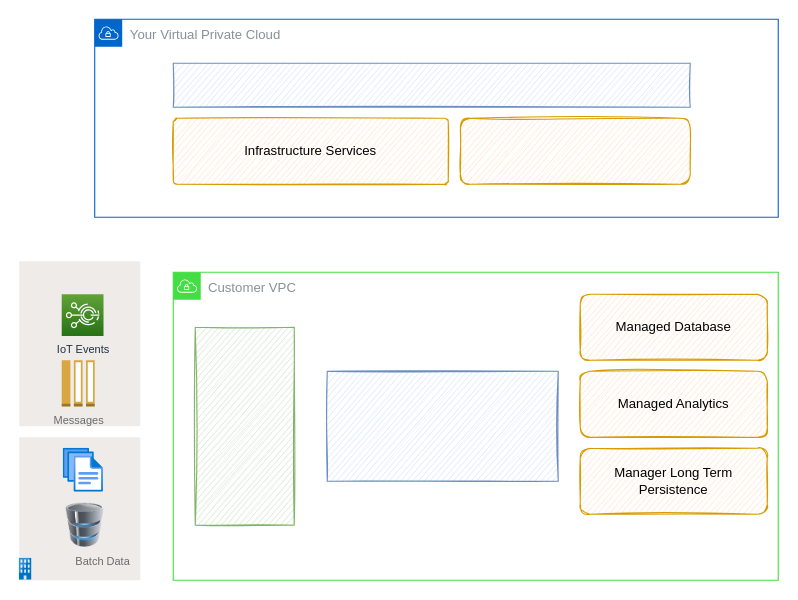
The diagram is 798 pixels wide and 600 high, and some of its shapes have lost their labels. The shapes that lost their labels are listed below. From the top down, each one's box as (x1, y1, x2, y2) in pixels, then its label:
(172, 62, 690, 107): Multi-tenancy Platform
(459, 117, 690, 184): Analytics Managed Services
(19, 261, 140, 426): Streaming Data
(194, 326, 294, 525): Data Ingestion
(326, 370, 558, 481): Data Platform as a Service
